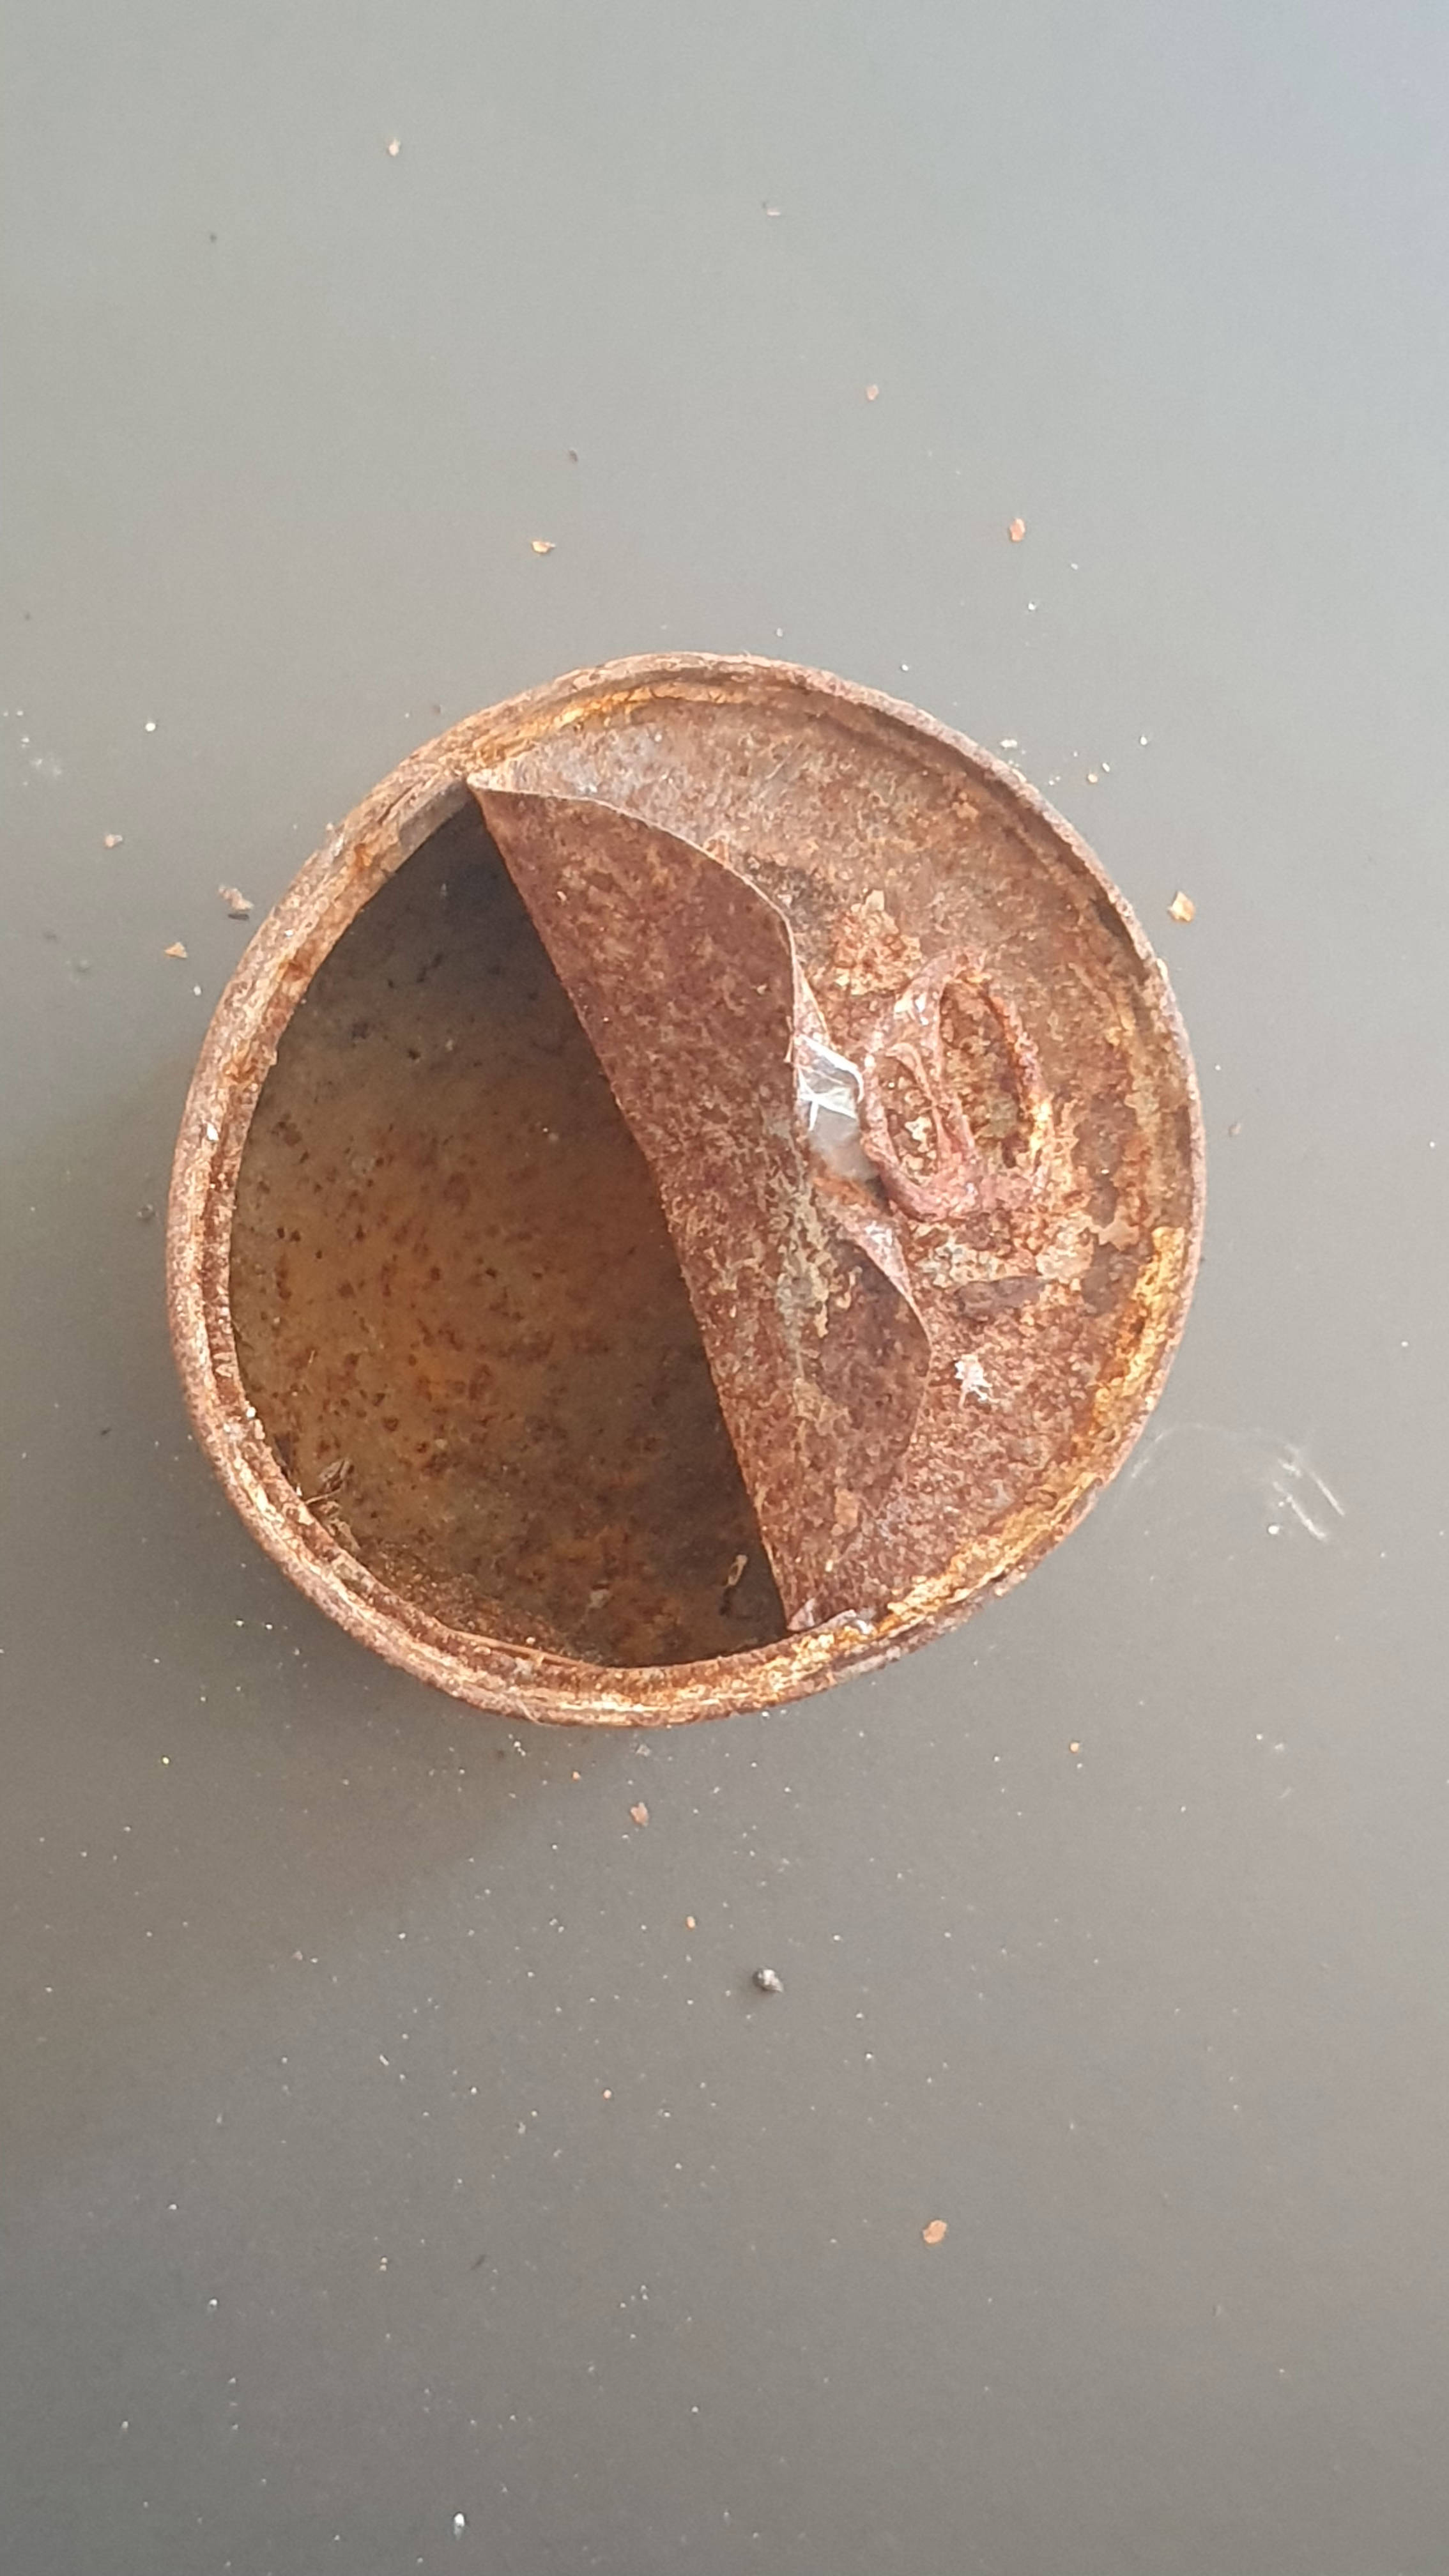metal: (133, 587, 1235, 1833)
